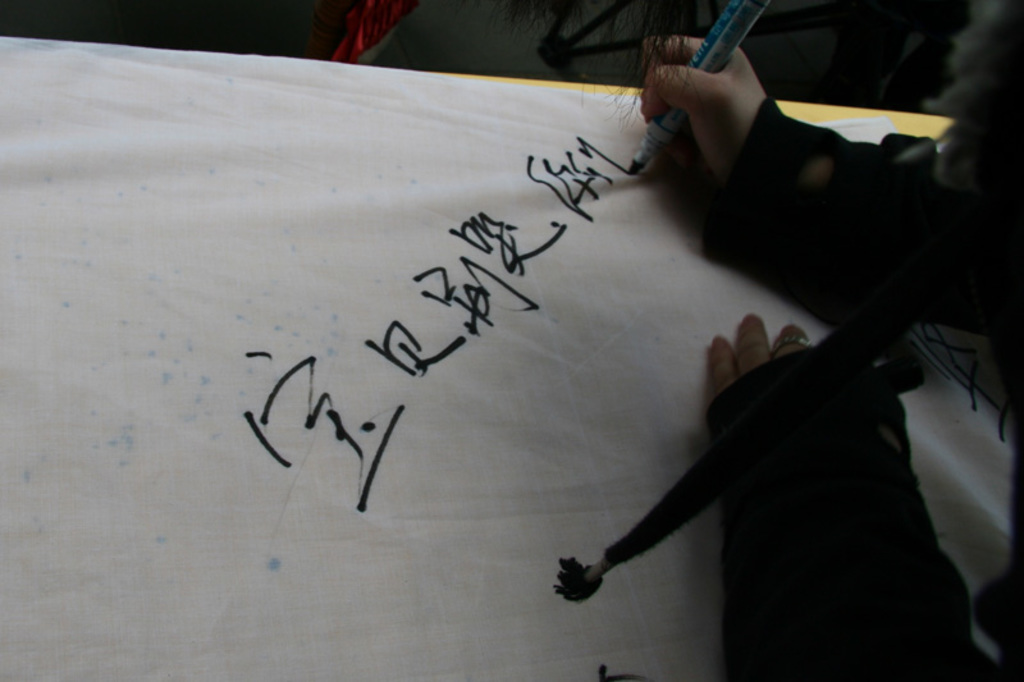Human_hand: (635, 32, 790, 165), (708, 307, 813, 398)
